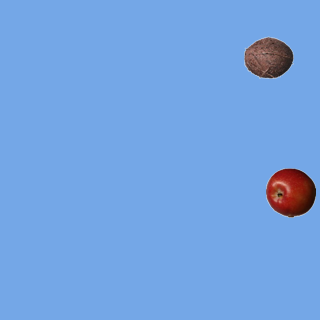Apple Braeburn: (265, 167, 315, 217)
Cocos: (243, 32, 293, 82)
